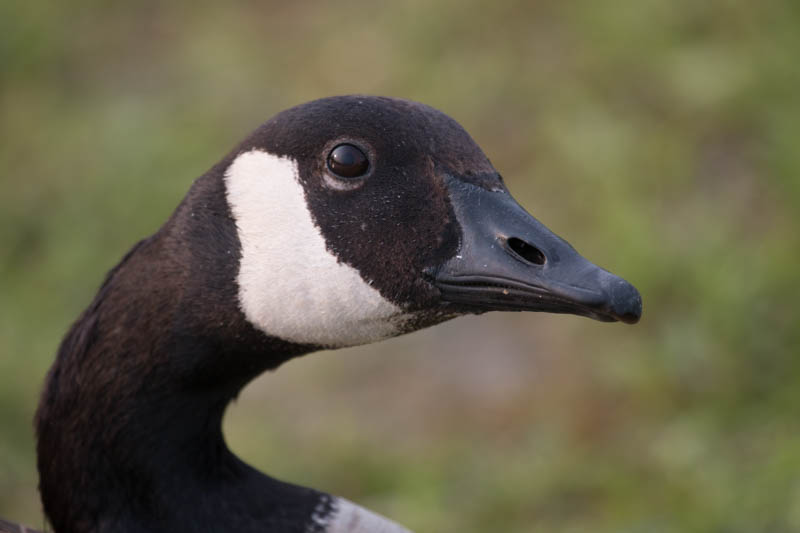goose-head: (192, 95, 644, 352)
